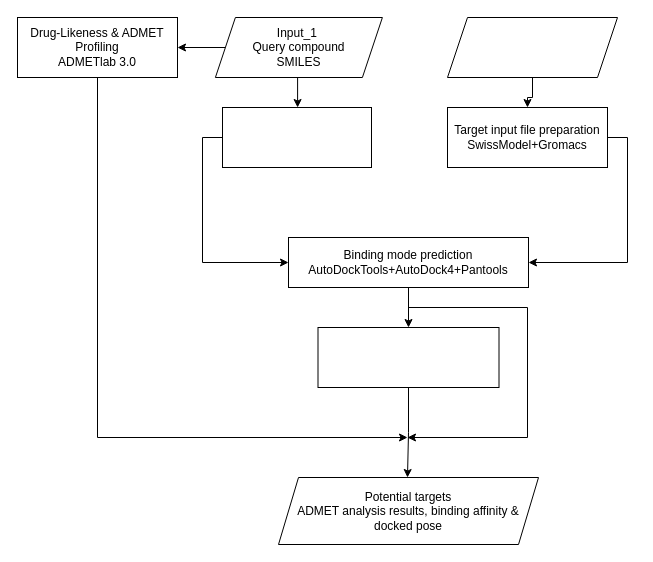
This 653x562 diagram has some shape labels left out. The box of each missing label's shape, as (x1, y1, x2, y2) in pixels:
Input_2 Query target proteins PDB: (446, 16, 618, 78)
Ligand input file preparation OpenBabel+Mopac: (222, 106, 372, 168)
Structural Dynamics Analysis Gromacs: (317, 326, 499, 388)
